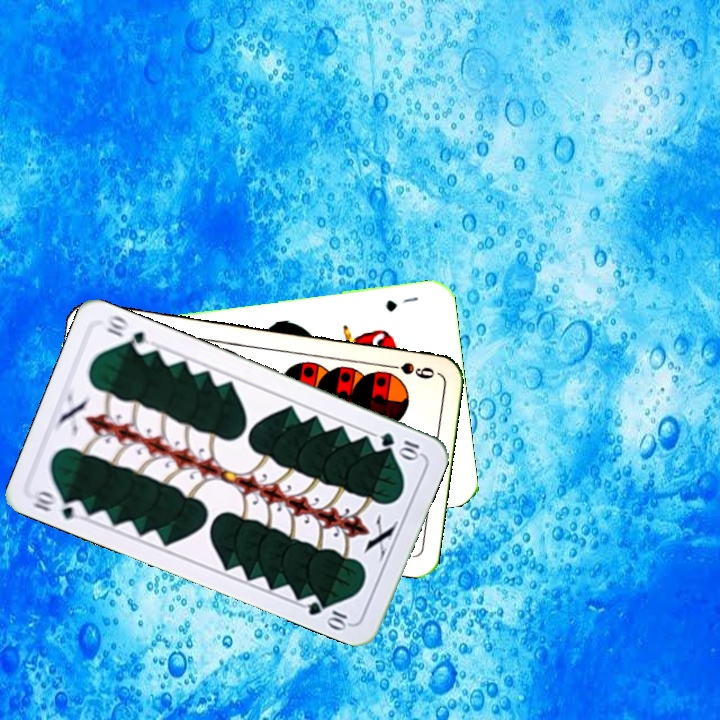G10: (29, 486, 89, 522), (376, 428, 423, 462)
GU: (382, 292, 421, 314)
S9: (379, 358, 437, 382)
